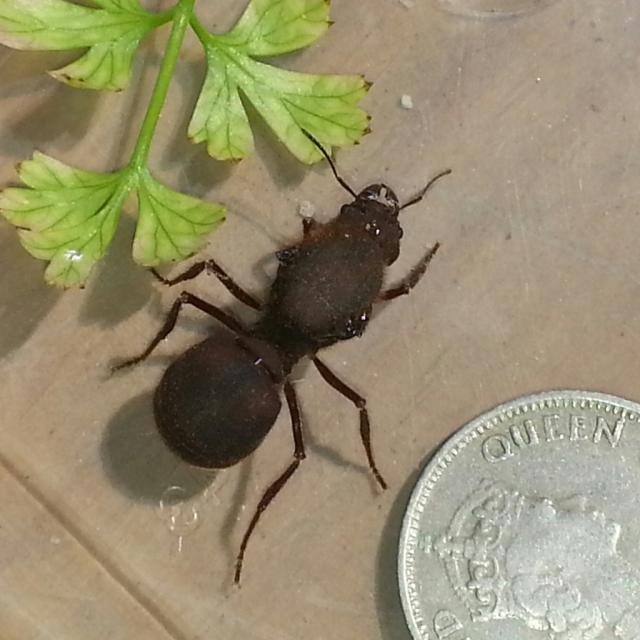Alive-Female-Dealate: (109, 128, 453, 590)
